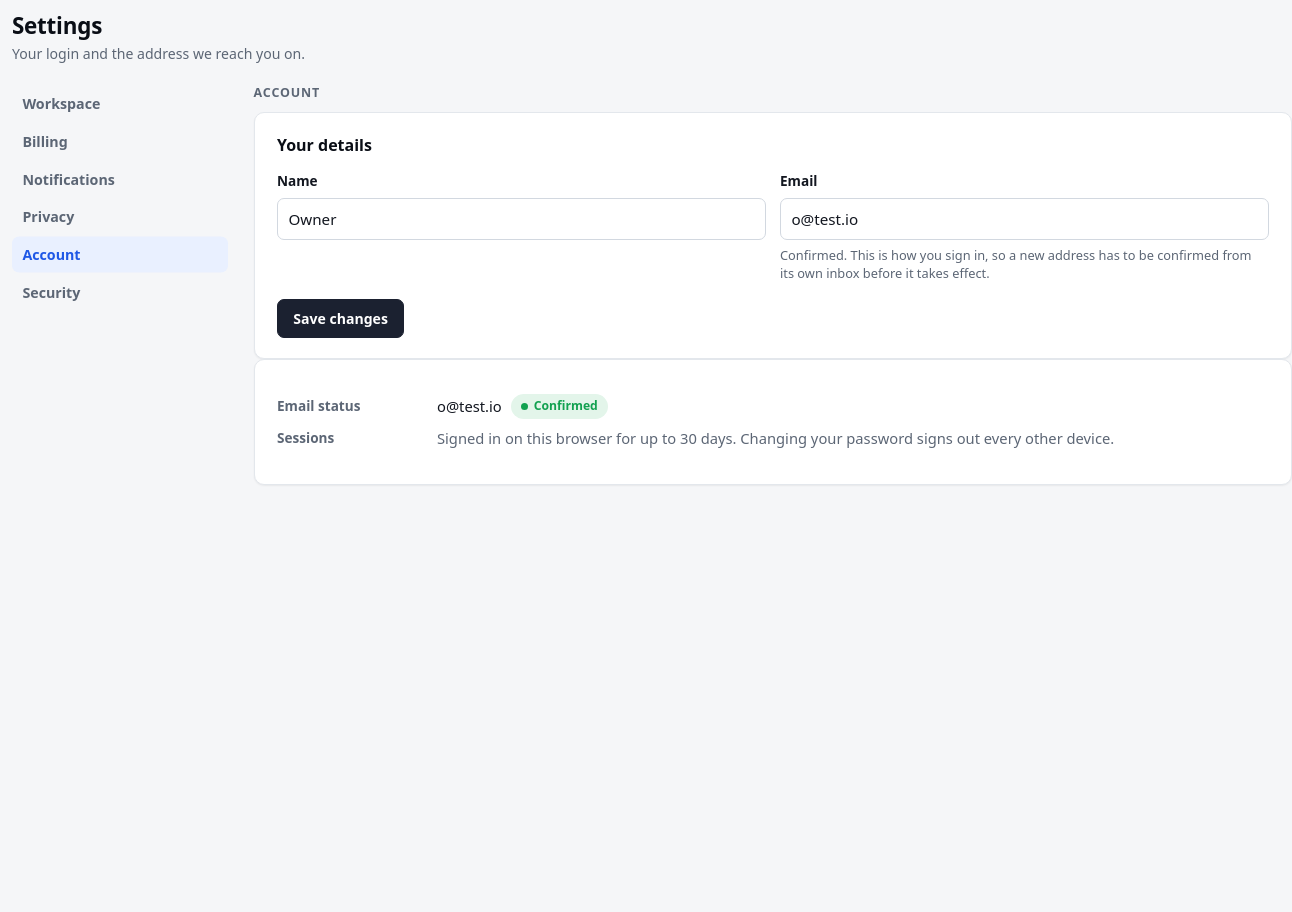
Test case: Settings → Account › asks for the password once the address is being moved, and says it is not applied yet
Replace the text in the field labelled "Email" with "new@test.io" at (1024, 219), box [780,198,1269,240]
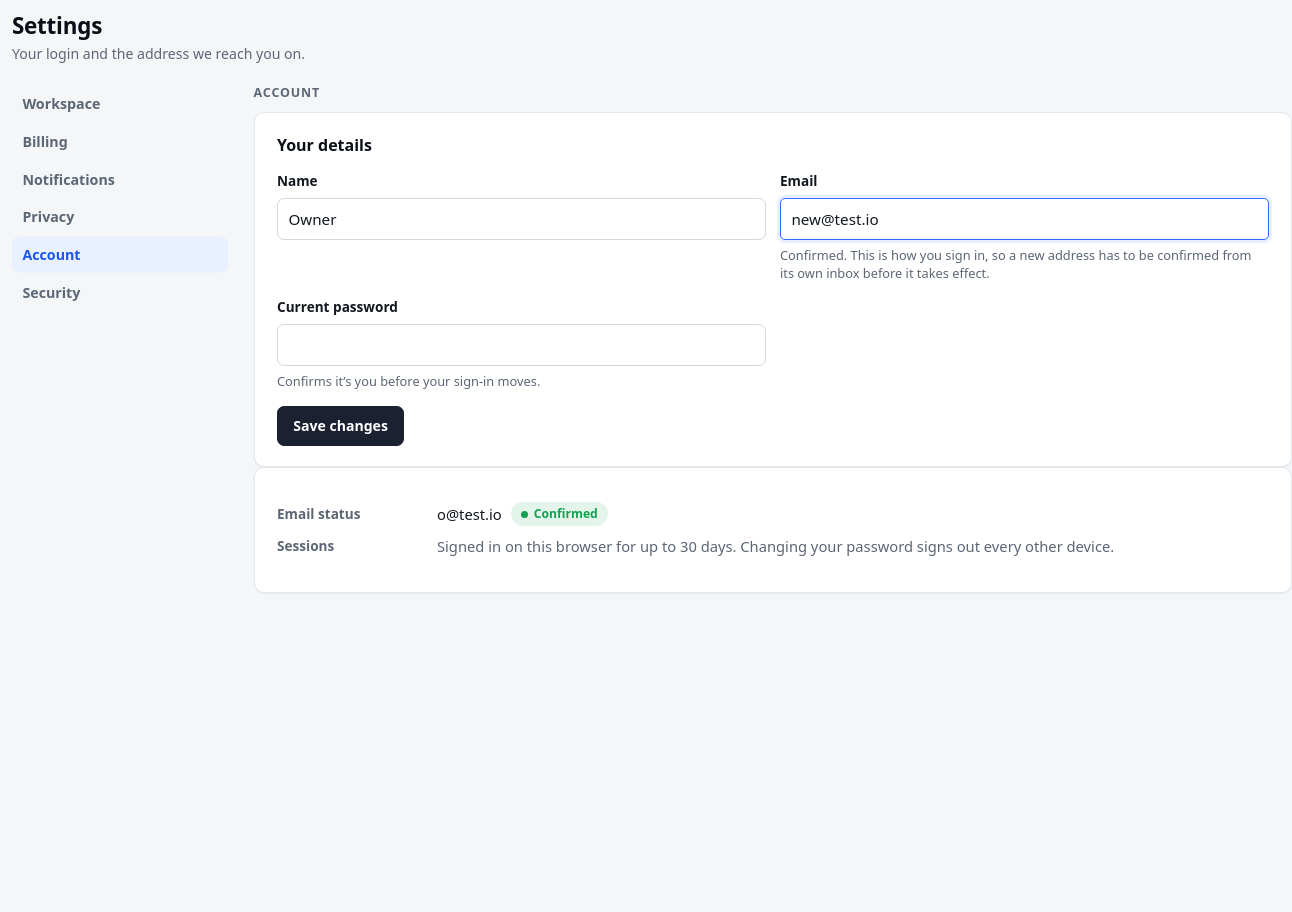
Note: The field appears only once the address actually differs.
Type "hunter2hunter2" into the password field labelled "Current password" at (521, 345), box [277,324,766,366]
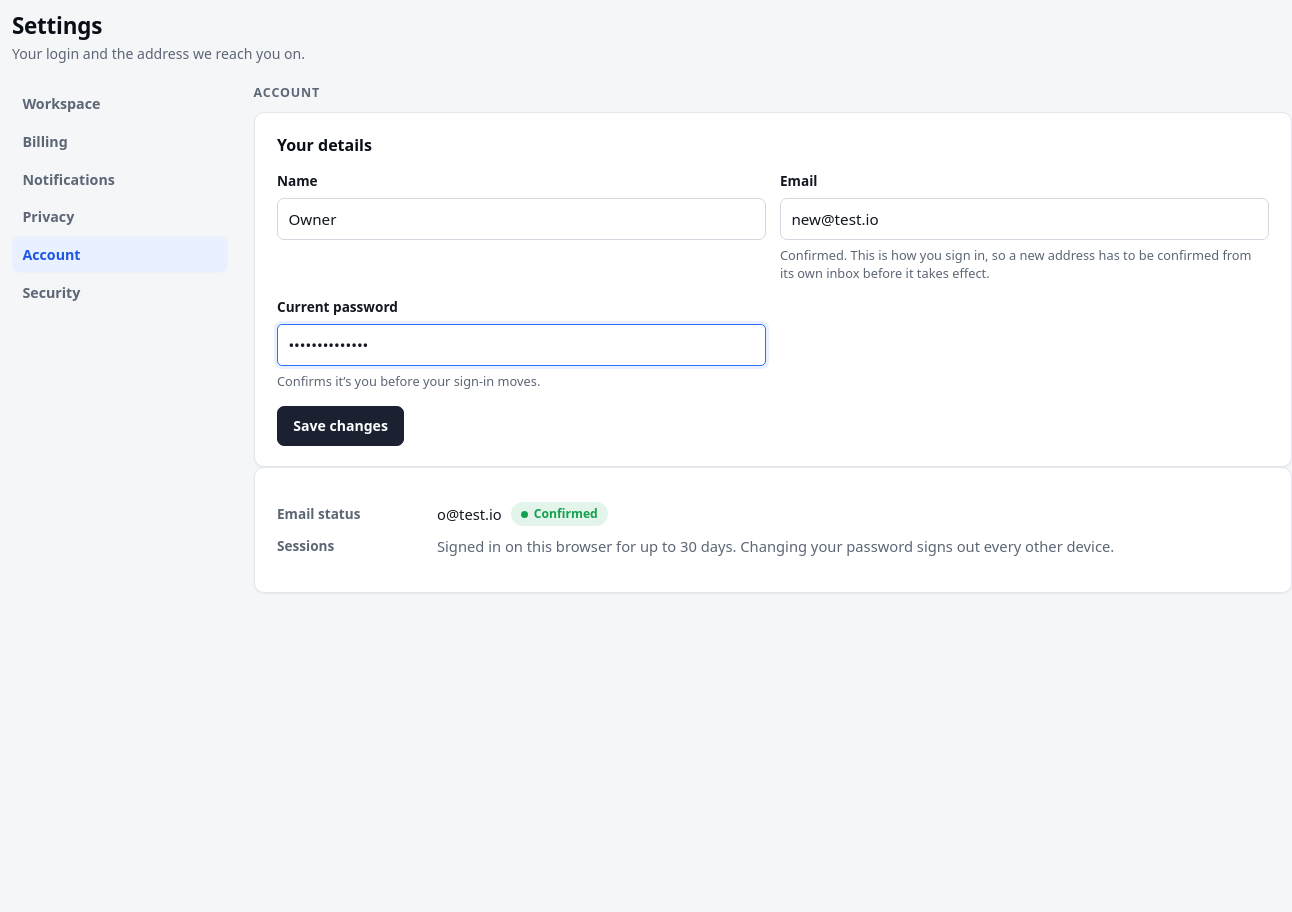
Click the button "Save changes" at (341, 426), box [277,406,404,446]
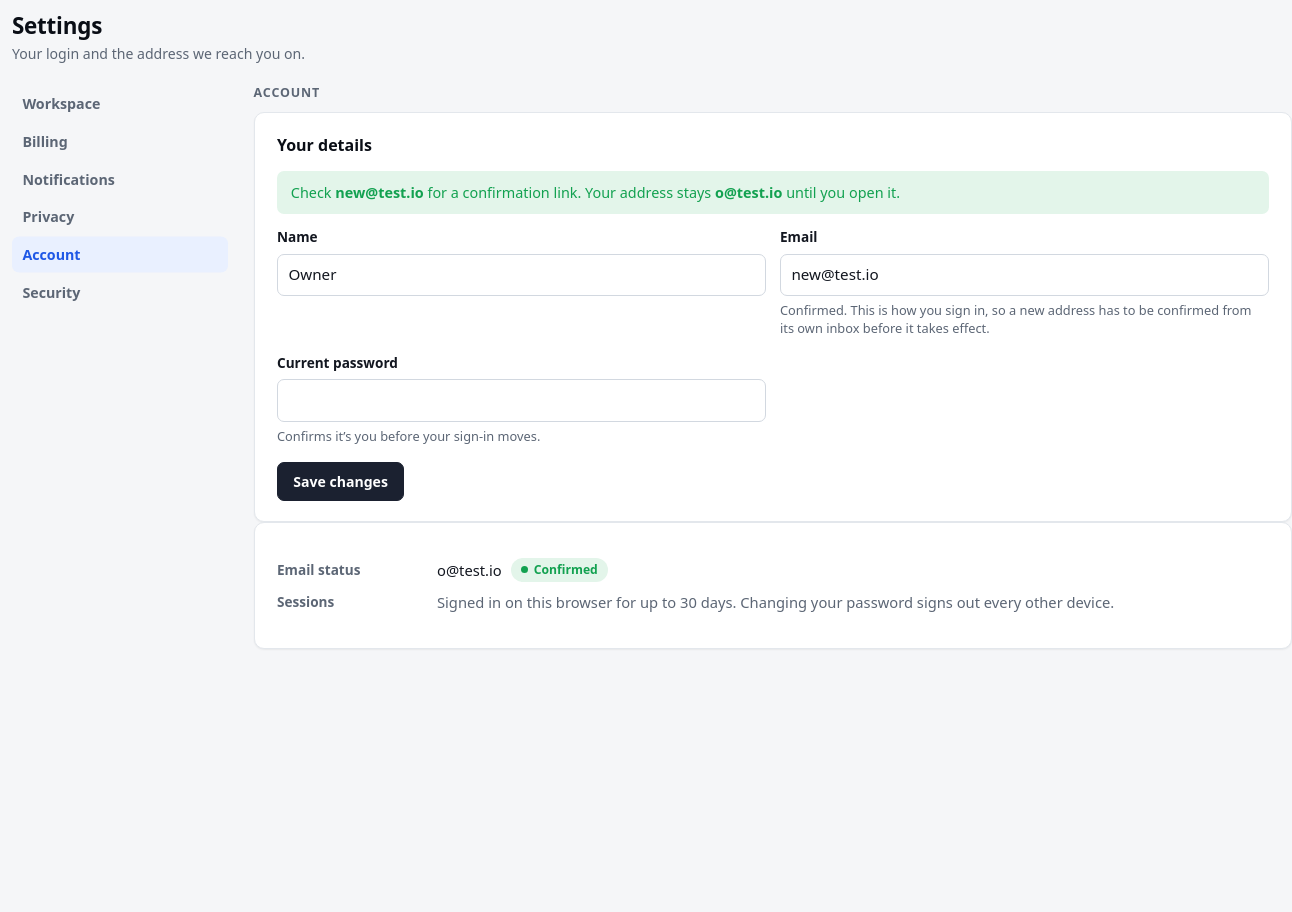
Expected: the text "Check" shows "new@test.io", [335,183,424,202]
Expected: the text "Check" shows "o@test.io", [715,183,782,202]
